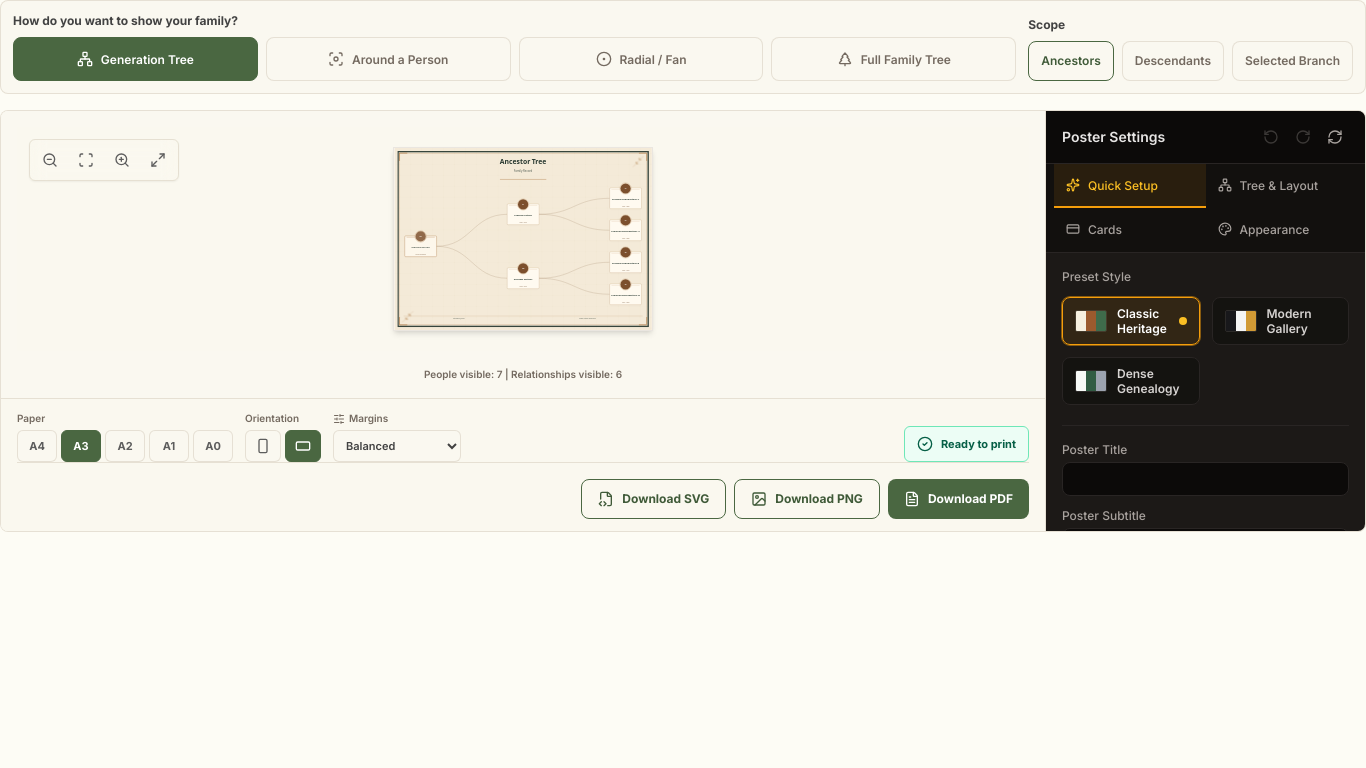
Scenario: VisualPublishingStudio Phase 1B Complete Behavioral Suite › switches to the full-tree overview scene and removes the generation limiter
Click the button "Full Family Tree".
click(894, 59)  # box left=771, top=37, right=1016, bottom=81
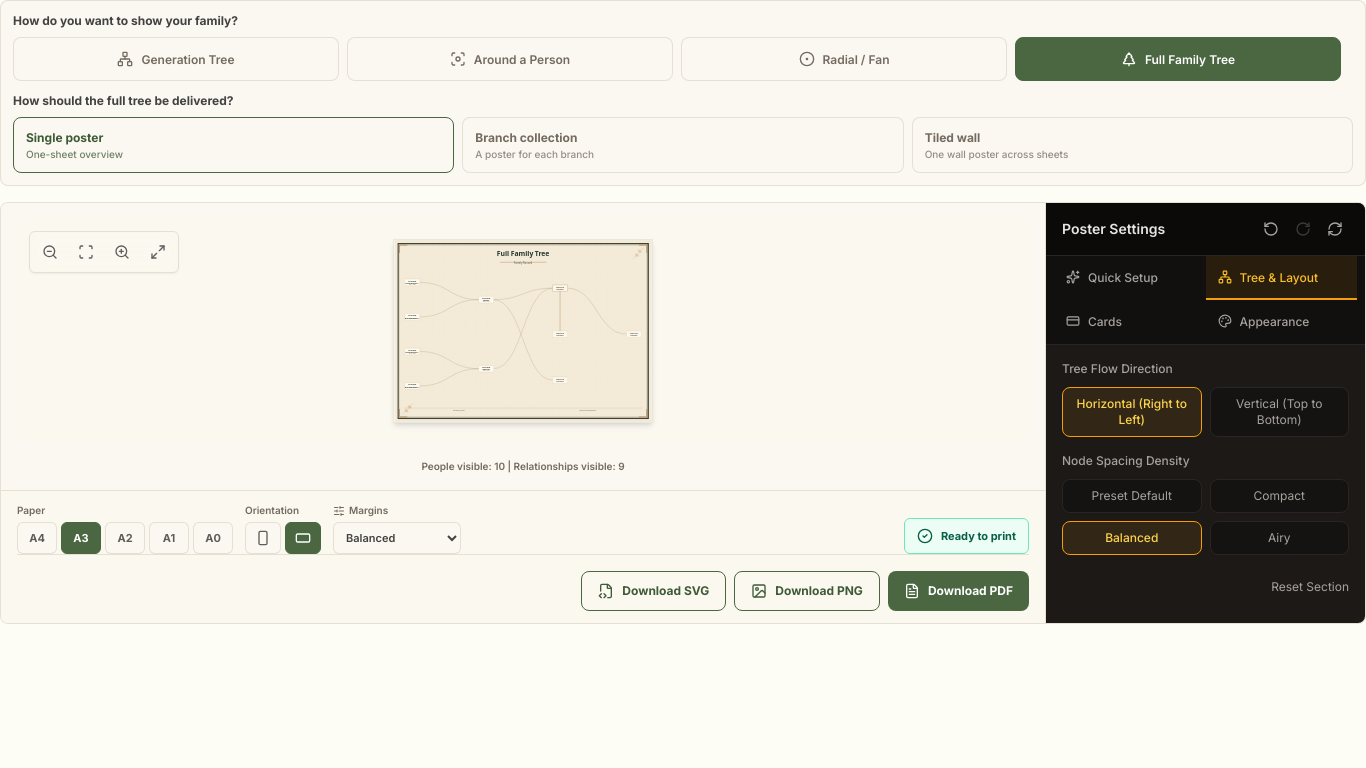
Expected: the text "People visible: 10 | Relationships visible: 9" is shown, left=421, top=459, right=625, bottom=474
Now the element with test id "poster-output-assembly-controls" is shown, box left=13, top=93, right=1353, bottom=173
